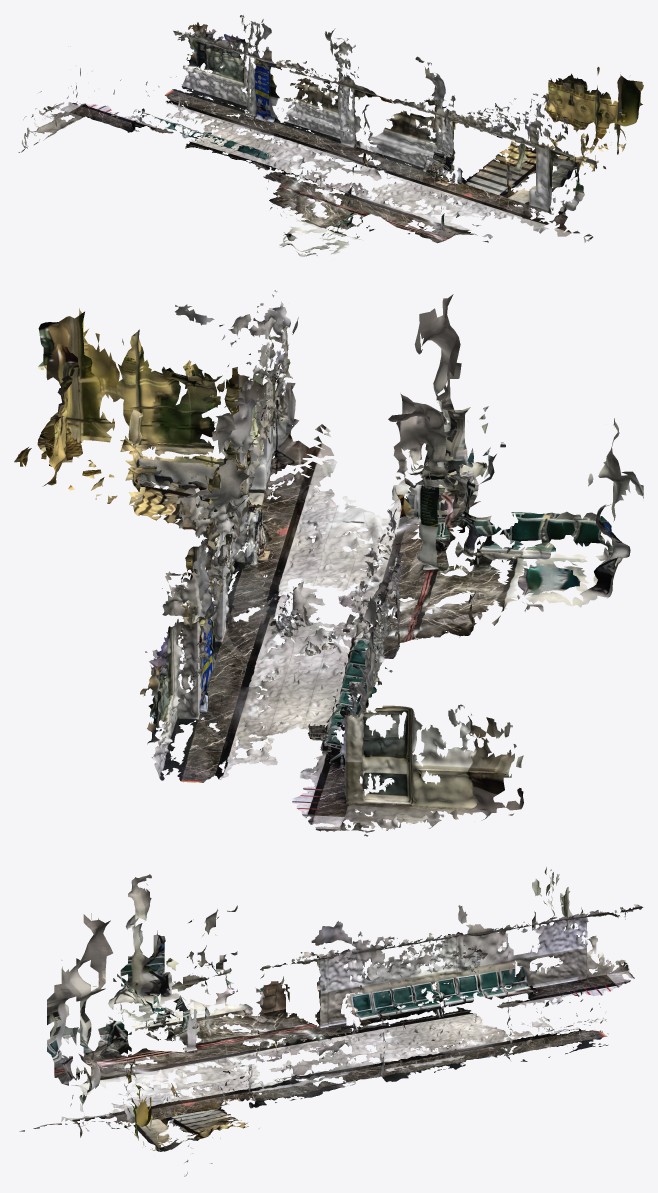
The model's file is 139871-lorongpoli1-tex.glb.
3 renders of one model, top to bottom at view 1: azimuth 30°, elevation 25°; view 2: azimuth 150°, elevation 25°; view 3: azimuth 270°, elevation 25°, orthographic. The views are drawn at different scales.
Visible parts, largest first — view 1: Node; view 2: Node; view 3: Node.
Part boxes in pixels (bbox=[...]): Node: bbox=[18, 15, 643, 256]; Node: bbox=[14, 290, 643, 836]; Node: bbox=[19, 867, 643, 1176].
Bounding box in the file's own units: 15.15 × 4.86 × 15.44.
34 materials, 34 textured.
